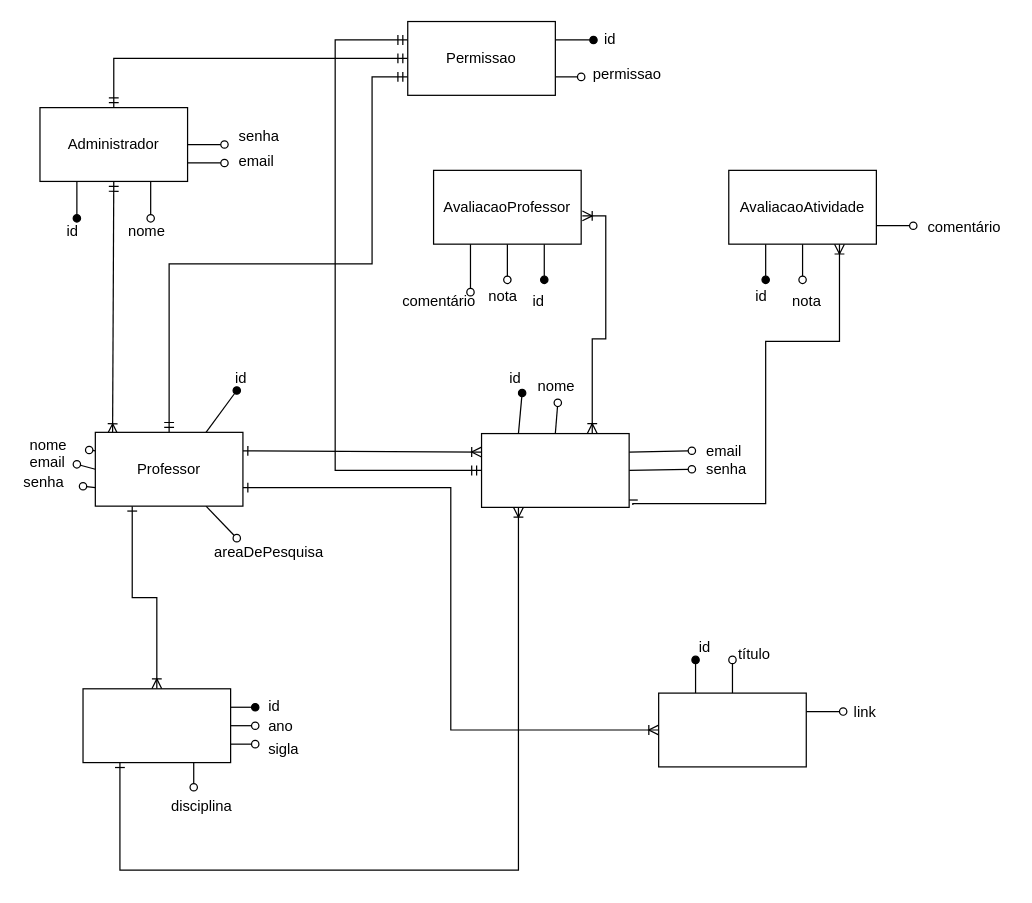
The diagram is 1032 pixels wide and 903 high, and some of its shapes have lost their labels. Here are the shapes that lost their labels. From the top down, the centre of each, then its label:
point 554,469: Aluno
point 156,725: Turma
point 731,729: Atividade
